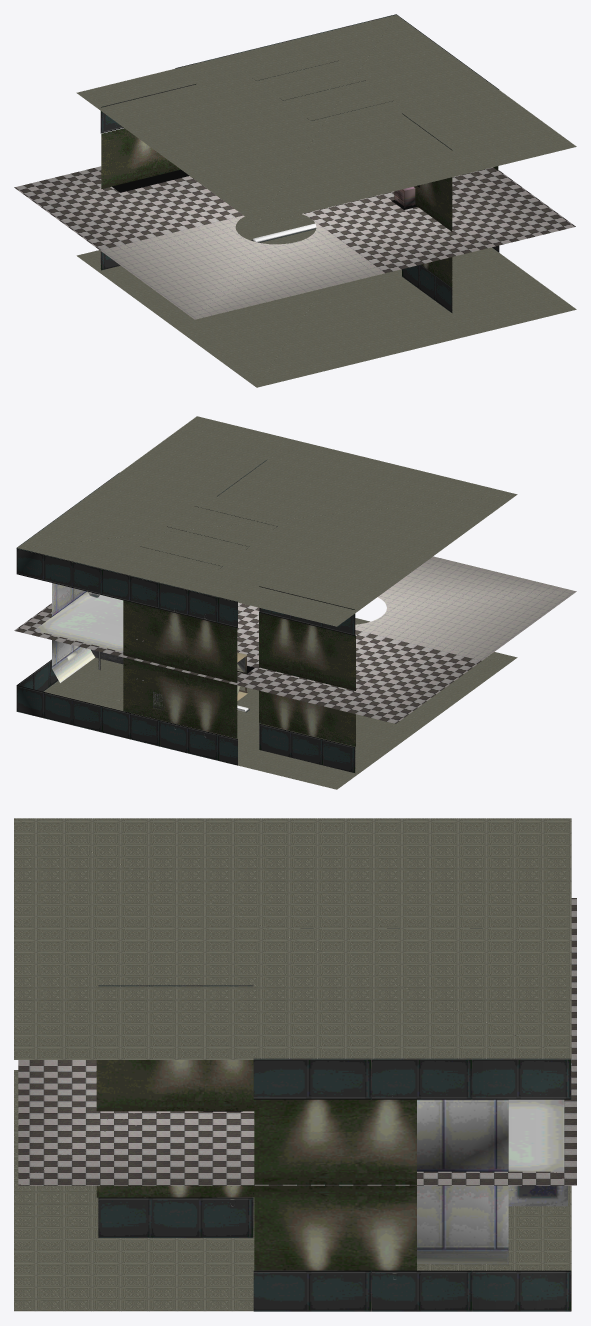
File: model-ramoneshop.glb
The picture shows the model from 3 angles, top to bottom: view 1: azimuth 30°, elevation 25°; view 2: azimuth 150°, elevation 25°; view 3: azimuth 270°, elevation 25°; orthographic projection. The views are drawn at different scales.
Parts seen in each view (by area): view 1: Object_4, Object_6, Object_5, Object_2, Object_9; view 2: Object_4, Object_2, Object_5, Object_6; view 3: Object_4, Object_2, Object_6.
Part boxes in pixels (bbox=[...]): Object_4: bbox=[76, 15, 576, 387]; Object_6: bbox=[14, 166, 575, 273]; Object_5: bbox=[100, 213, 384, 319]; Object_2: bbox=[100, 14, 499, 312]; Object_9: bbox=[112, 169, 419, 209]; Object_4: bbox=[17, 416, 517, 789]; Object_2: bbox=[16, 459, 355, 772]; Object_5: bbox=[355, 556, 576, 660]; Object_6: bbox=[14, 592, 481, 723]; Object_4: bbox=[14, 818, 571, 1311]; Object_2: bbox=[96, 928, 571, 1311]; Object_6: bbox=[18, 898, 576, 1185].
Bounding box in the file's own units: 1.21 × 0.4956 × 1.
Materials: 8 (7 with a texture image).
